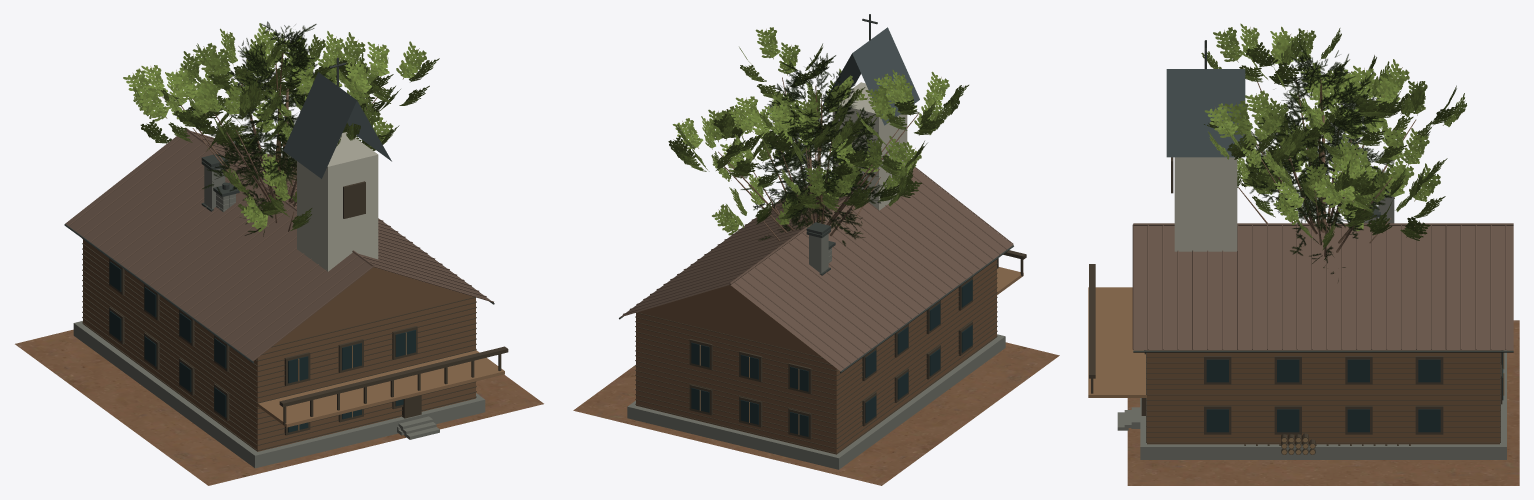
Rendered from atlas.glb.
3 renders of one model, left to right at view 1: azimuth 30°, elevation 25°; view 2: azimuth 150°, elevation 25°; view 3: azimuth 270°, elevation 25°, orthographic. The views are drawn at different scales.
Parts seen in each view (by area): view 1: inn / 0, leaf_0 / 6, chapel / 0, gravel / 0, fir_1_needles / 0, fir_0_needles / 0, leaf_0 / 1, chalet / 0; view 2: inn / 0, leaf_0 / 6, gravel / 0, chapel / 0, fir_1_needles / 0, fir_0_needles / 0, leaf_0 / 1; view 3: inn / 0, leaf_0 / 6, gravel / 0, chapel / 0, fir_1_needles / 0, fir_0_needles / 0, leaf_0 / 1, chalet / 0.
Boxes of the visible parts, bbox=[...] form: inn / 0: bbox=[64, 127, 508, 468]; leaf_0 / 6: bbox=[123, 23, 439, 231]; chapel / 0: bbox=[201, 57, 391, 271]; gravel / 0: bbox=[15, 329, 543, 485]; fir_1_needles / 0: bbox=[202, 24, 329, 236]; fir_0_needles / 0: bbox=[207, 21, 341, 178]; leaf_0 / 1: bbox=[178, 84, 377, 231]; chalet / 0: bbox=[213, 182, 404, 435]; inn / 0: bbox=[619, 164, 1026, 469]; leaf_0 / 6: bbox=[668, 27, 968, 235]; gravel / 0: bbox=[573, 342, 1059, 485]; chapel / 0: bbox=[806, 14, 919, 237]; fir_1_needles / 0: bbox=[758, 58, 894, 246]; fir_0_needles / 0: bbox=[740, 53, 885, 220]; leaf_0 / 1: bbox=[718, 77, 918, 240]; inn / 0: bbox=[1088, 195, 1513, 459]; leaf_0 / 6: bbox=[1201, 23, 1466, 250]; gravel / 0: bbox=[1127, 320, 1519, 485]; chapel / 0: bbox=[1166, 40, 1389, 251]; fir_1_needles / 0: bbox=[1252, 50, 1405, 281]; fir_0_needles / 0: bbox=[1245, 44, 1383, 255]; leaf_0 / 1: bbox=[1238, 73, 1416, 256]; chalet / 0: bbox=[1131, 206, 1380, 454].
Size of the model in its own units: 1 by 1.02 by 1.1.
9 materials, 7 textured.
